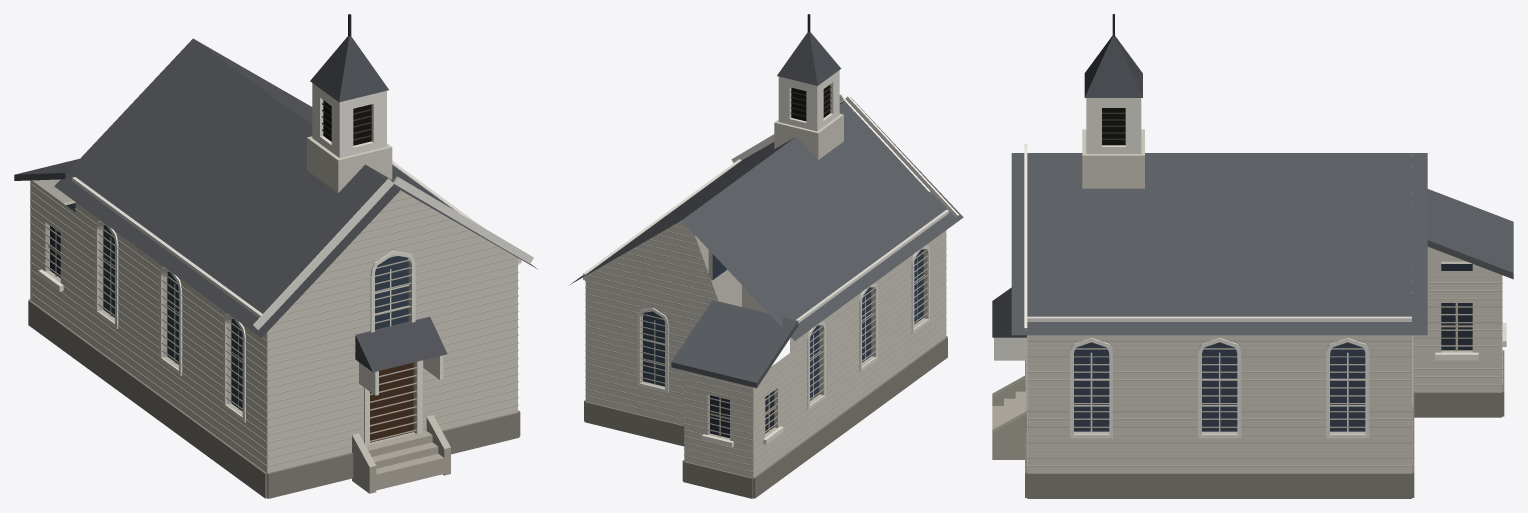
Rendered from ch-highland-methodist-1913.glb.
The picture shows the model from 3 angles, left to right: view 1: azimuth 30°, elevation 25°; view 2: azimuth 150°, elevation 25°; view 3: azimuth 270°, elevation 25°; orthographic projection. The views are drawn at different scales.
Parts seen in each view (by area): view 1: ch_brick, ch_roof, ch_brick2, ch_trim, ch_base, ch_roof2, ch_conc, ch_stain, ch_door, ch_shadow; view 2: ch_roof, ch_brick, ch_brick2, ch_trim, ch_base, ch_stain, ch_roof2, ch_glass, ch_shadow; view 3: ch_roof, ch_brick, ch_brick2, ch_base, ch_trim, ch_stain, ch_roof2, ch_conc, ch_glass, ch_shadow.
Boxes of the visible parts, x1,y1,x2,y2 form: ch_brick: (30, 136, 517, 473); ch_roof: (14, 38, 537, 337); ch_brick2: (30, 164, 518, 466); ch_trim: (38, 83, 533, 446); ch_base: (28, 299, 520, 498); ch_roof2: (310, 36, 447, 372); ch_conc: (352, 415, 450, 493); ch_stain: (103, 225, 408, 411); ch_door: (370, 362, 413, 442); ch_shadow: (323, 100, 371, 145); ch_roof: (570, 97, 963, 387); ch_brick: (585, 113, 946, 477); ch_brick2: (585, 111, 946, 478); ch_trim: (583, 70, 958, 447); ch_base: (584, 336, 947, 498); ch_stain: (643, 249, 923, 400); ch_roof2: (777, 32, 841, 85); ch_glass: (710, 391, 774, 438); ch_shadow: (791, 84, 830, 121); ch_roof: (1011, 153, 1513, 335); ch_brick: (1027, 129, 1501, 472); ch_brick2: (1027, 155, 1502, 474); ch_base: (1025, 350, 1504, 498); ch_trim: (994, 98, 1506, 438); ch_stain: (1074, 342, 1365, 431); ch_roof2: (992, 36, 1142, 337); ch_conc: (992, 375, 1026, 459); ch_glass: (1441, 264, 1472, 350); ch_shadow: (1102, 108, 1125, 145).
Size of the model in its own units: 8.25 by 11.98 by 13.3.
